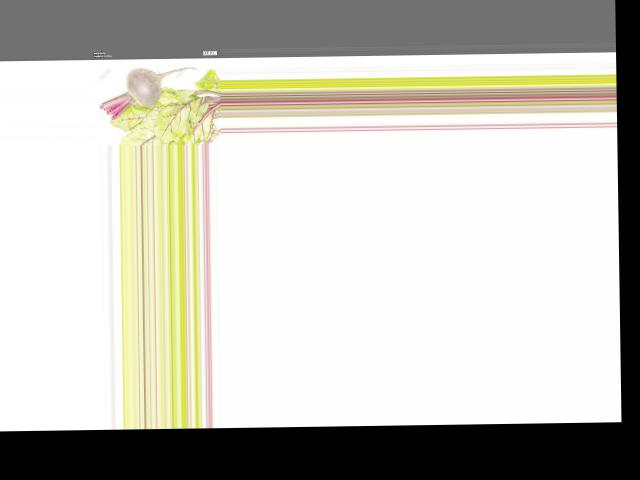beet: (98, 66, 198, 119)
